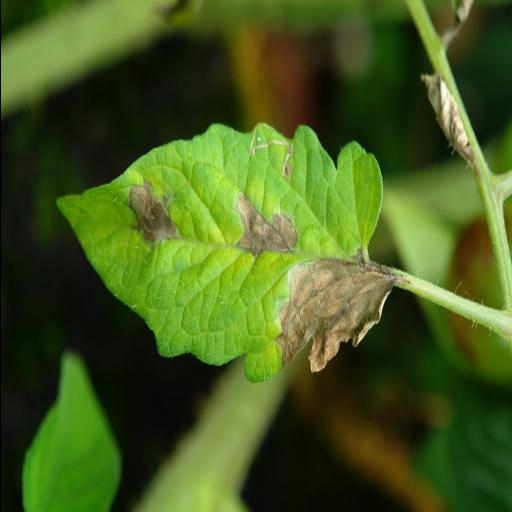disease_tomato: (46, 113, 394, 389)
